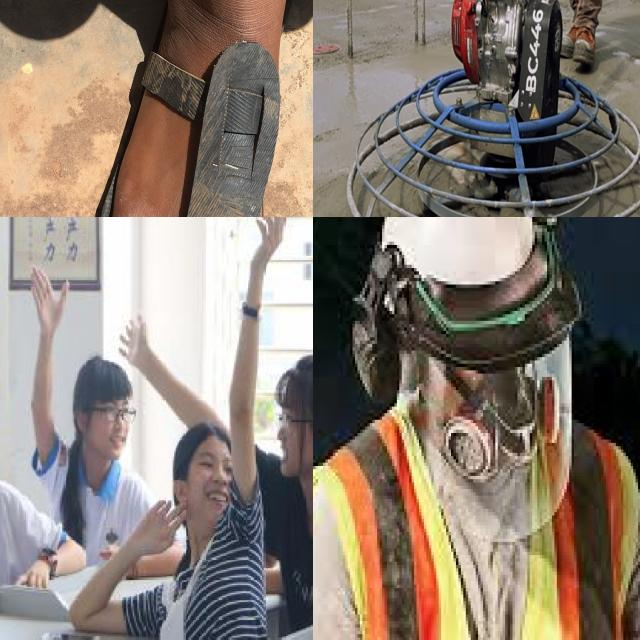boots: (559, 4, 597, 72)
face_nomask: (271, 402, 313, 486), (91, 403, 134, 458), (195, 452, 232, 514)
glasses: (97, 400, 138, 426)
hand_noglove: (131, 497, 188, 553), (30, 262, 71, 336), (249, 217, 288, 285), (117, 313, 153, 370), (14, 557, 53, 593)
head_nohelmet: (174, 417, 242, 459), (278, 346, 313, 423), (80, 358, 133, 408)
person: (313, 217, 640, 640), (100, 417, 295, 640), (0, 268, 155, 546), (0, 377, 92, 595), (254, 345, 313, 611)
vest: (313, 416, 640, 640)
